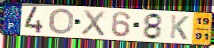4: (24, 6, 45, 34)
6: (110, 11, 133, 38)
8: (142, 11, 164, 41)
K: (169, 14, 190, 41)
O: (48, 8, 76, 35)
X: (80, 9, 106, 38)
